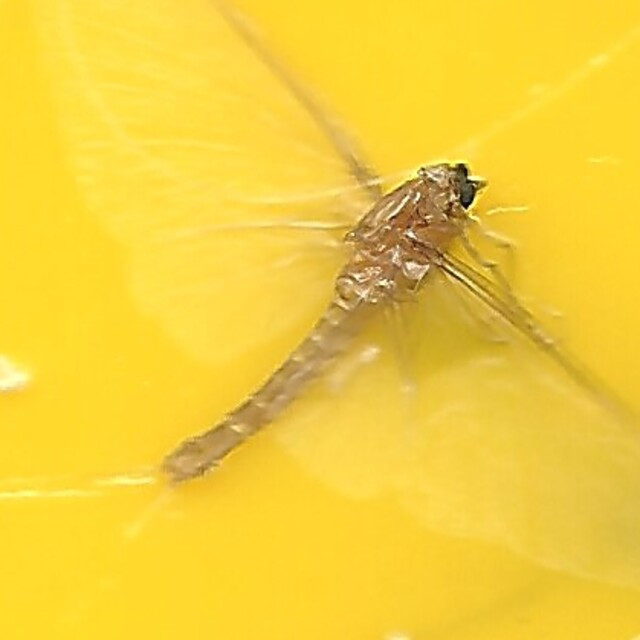Ephemeroptera: (153, 154, 487, 486)
